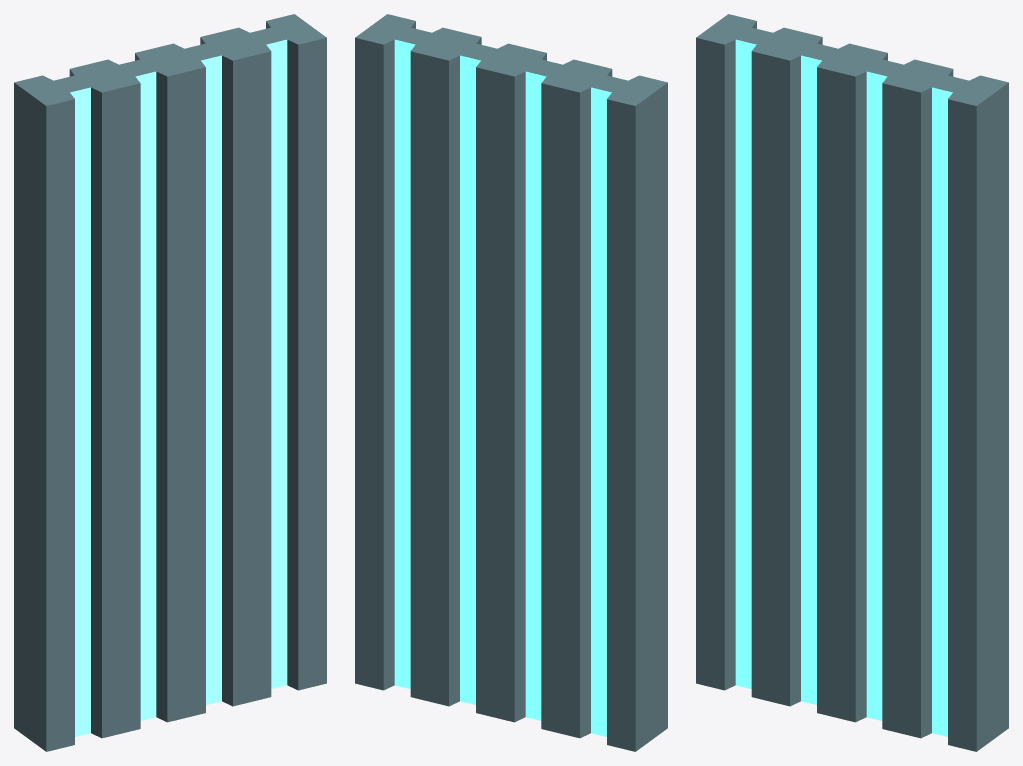
Rendered from W1_Wall_Ridge1Double.fbx.
3 renders of one model, left to right at view 1: azimuth 30°, elevation 25°; view 2: azimuth 150°, elevation 25°; view 3: azimuth 330°, elevation 25°, orthographic.
Parts seen in each view (by area): view 1: W1_Wall_Ridge1Double.001; view 2: W1_Wall_Ridge1Double.001; view 3: W1_Wall_Ridge1Double.001.
Part boxes in pixels (x1,y1,x2,y2): W1_Wall_Ridge1Double.001: (14, 14, 326, 751); W1_Wall_Ridge1Double.001: (355, 14, 667, 751); W1_Wall_Ridge1Double.001: (696, 14, 1008, 751).
Bounding box in the file's own units: 1 × 2.2 × 0.2.
